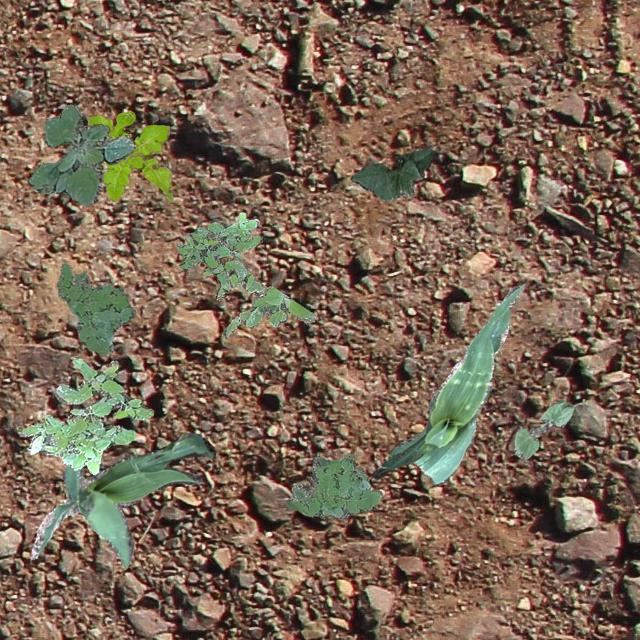crop: (372, 280, 524, 484), (28, 432, 215, 568), (350, 147, 432, 200), (514, 398, 572, 458)
weed: (21, 358, 152, 473), (28, 102, 134, 206), (86, 110, 172, 200), (56, 262, 134, 354), (214, 270, 316, 336), (176, 212, 260, 292), (286, 452, 382, 518)
